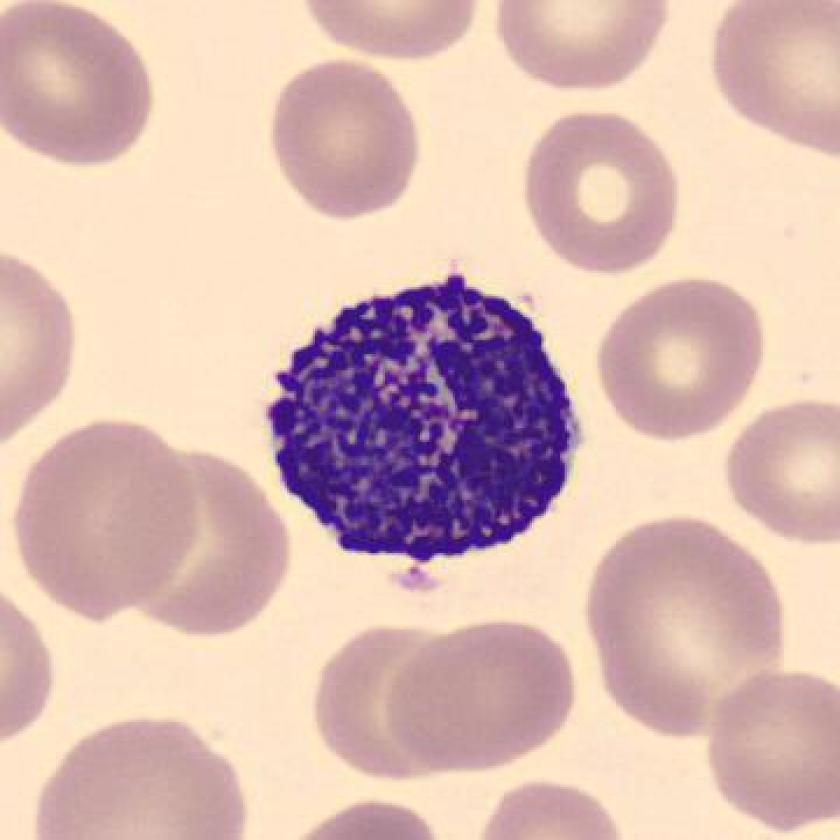basophil: (260, 263, 594, 584)
